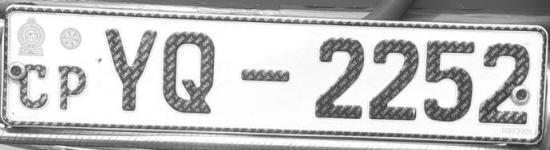-: (240, 62, 294, 88)
2: (308, 31, 369, 122), (477, 36, 534, 130), (367, 33, 422, 125)
5: (420, 35, 477, 126)
C: (17, 58, 54, 112)
P: (55, 61, 94, 115)
Q: (160, 30, 226, 118)
Y: (100, 21, 160, 116)
